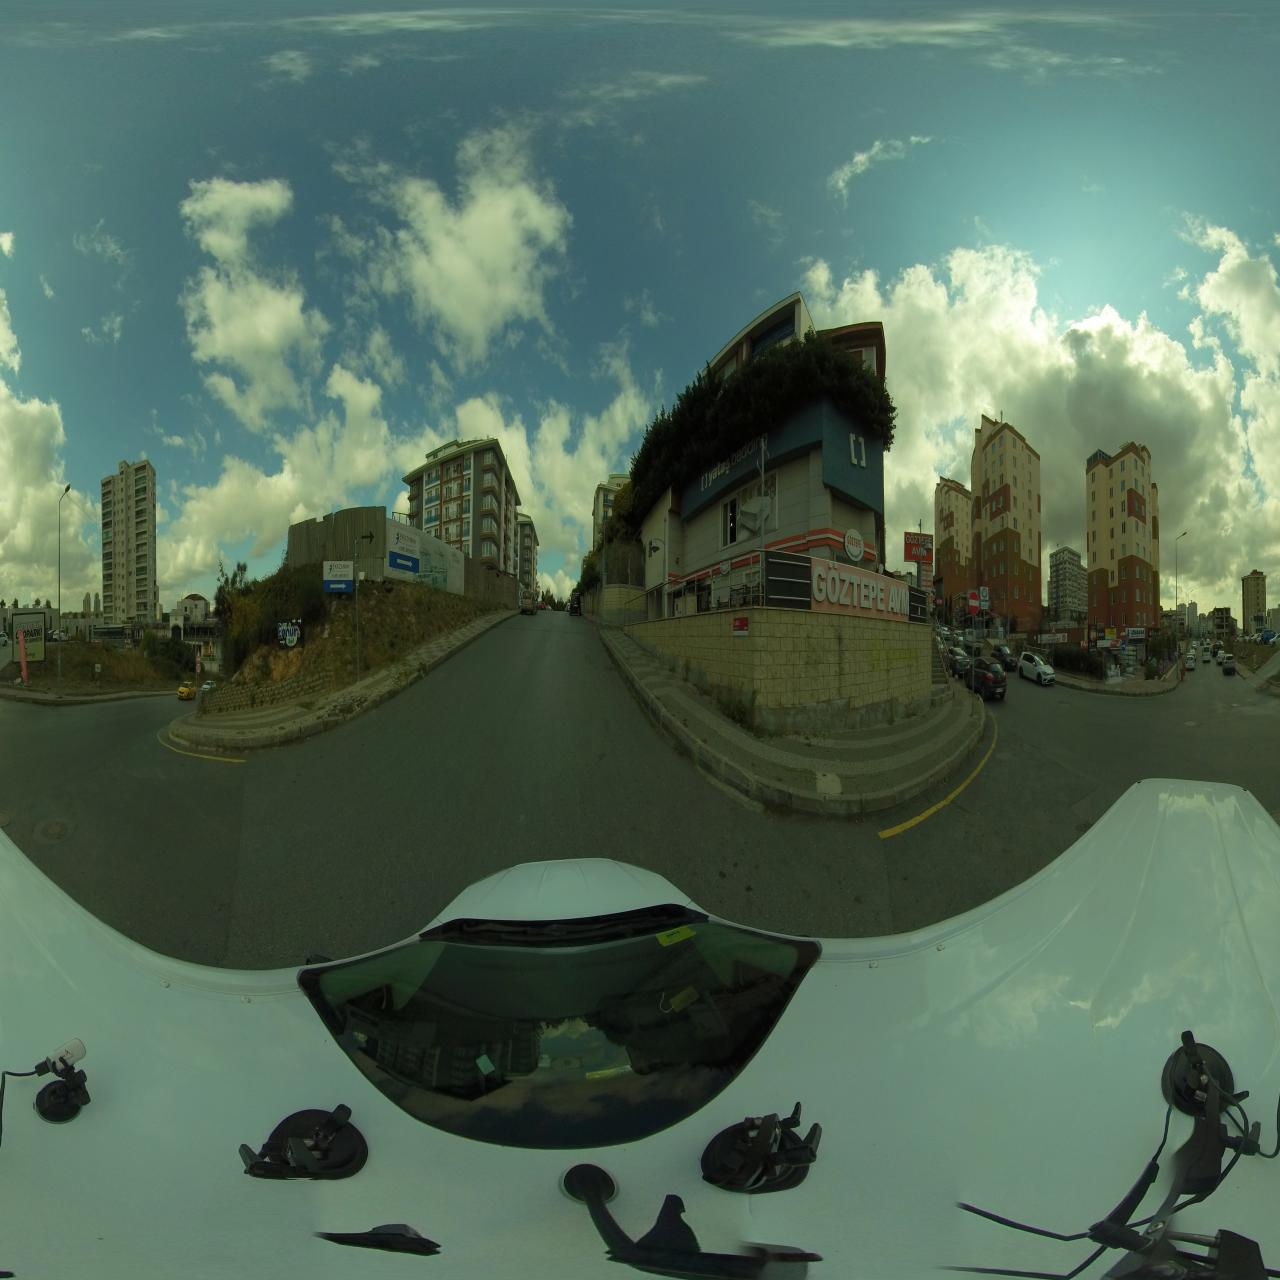SignStore: (686, 397, 821, 515), (812, 561, 911, 619), (843, 526, 865, 564), (1125, 627, 1145, 639), (1098, 639, 1122, 648), (1098, 628, 1116, 640), (1054, 633, 1068, 642), (1041, 634, 1053, 644)
